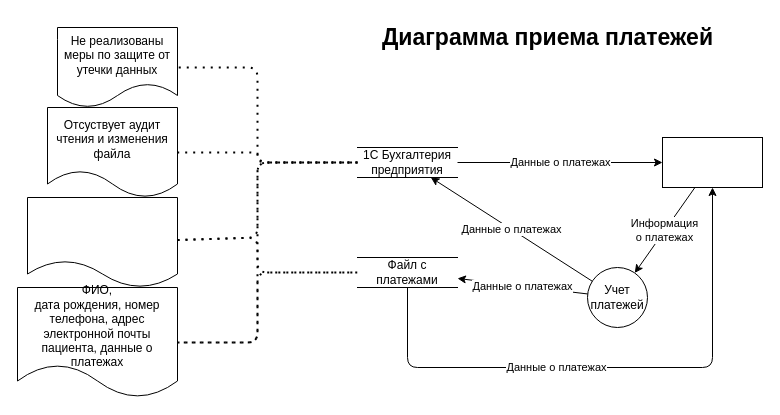
Some shapes in this 780 by 415 pixel diagram are drawn without their labels. Each missing label, with the box of its shape:
Кассир: (662, 136, 762, 188)
Файл не защищен от изменения другими сотрудниками: (26, 196, 178, 288)
